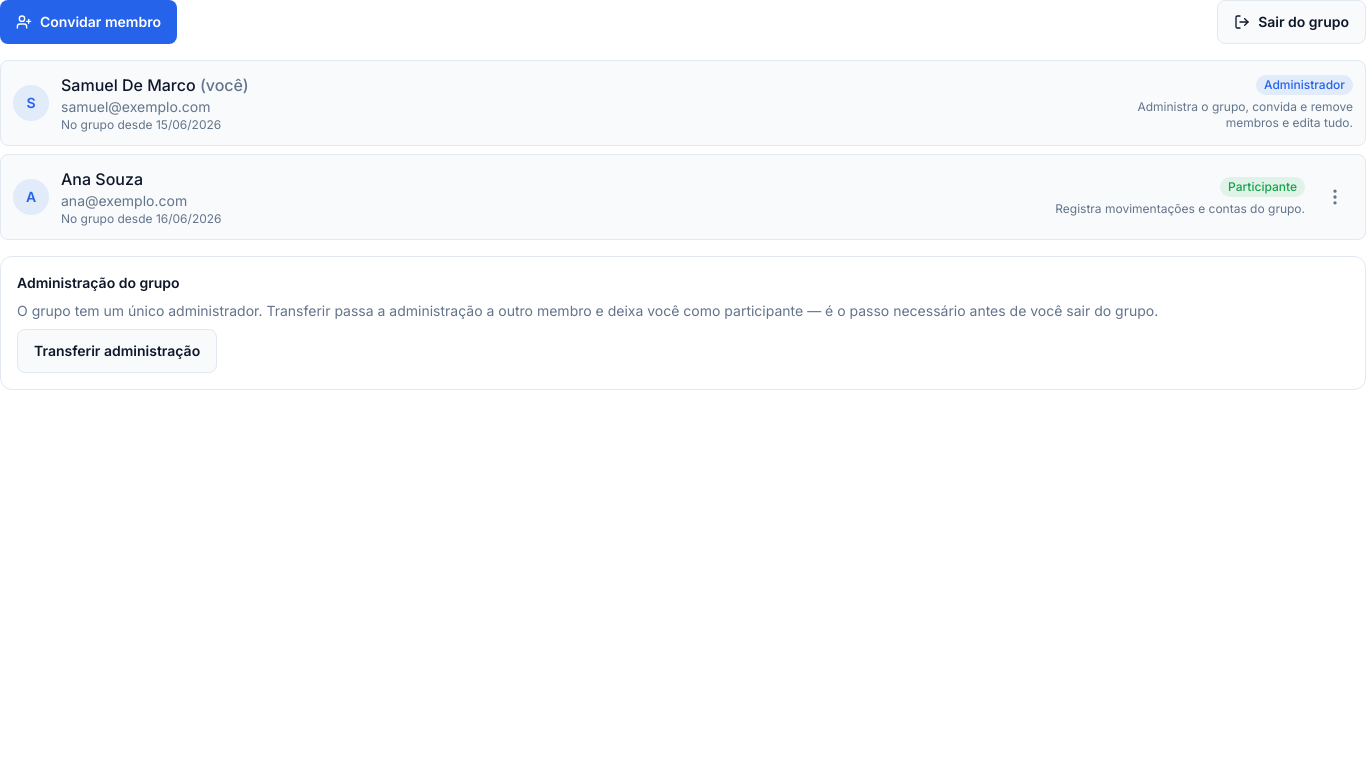
AbaMembrosGrupo — administrador › administrador que tenta sair recebe o caminho da transferencia (RN-29)
What coordinates should you click on to do the following:
click the button "Sair do grupo"
I would click on:
 (1292, 22)
Its box is [1217, 0, 1365, 44].
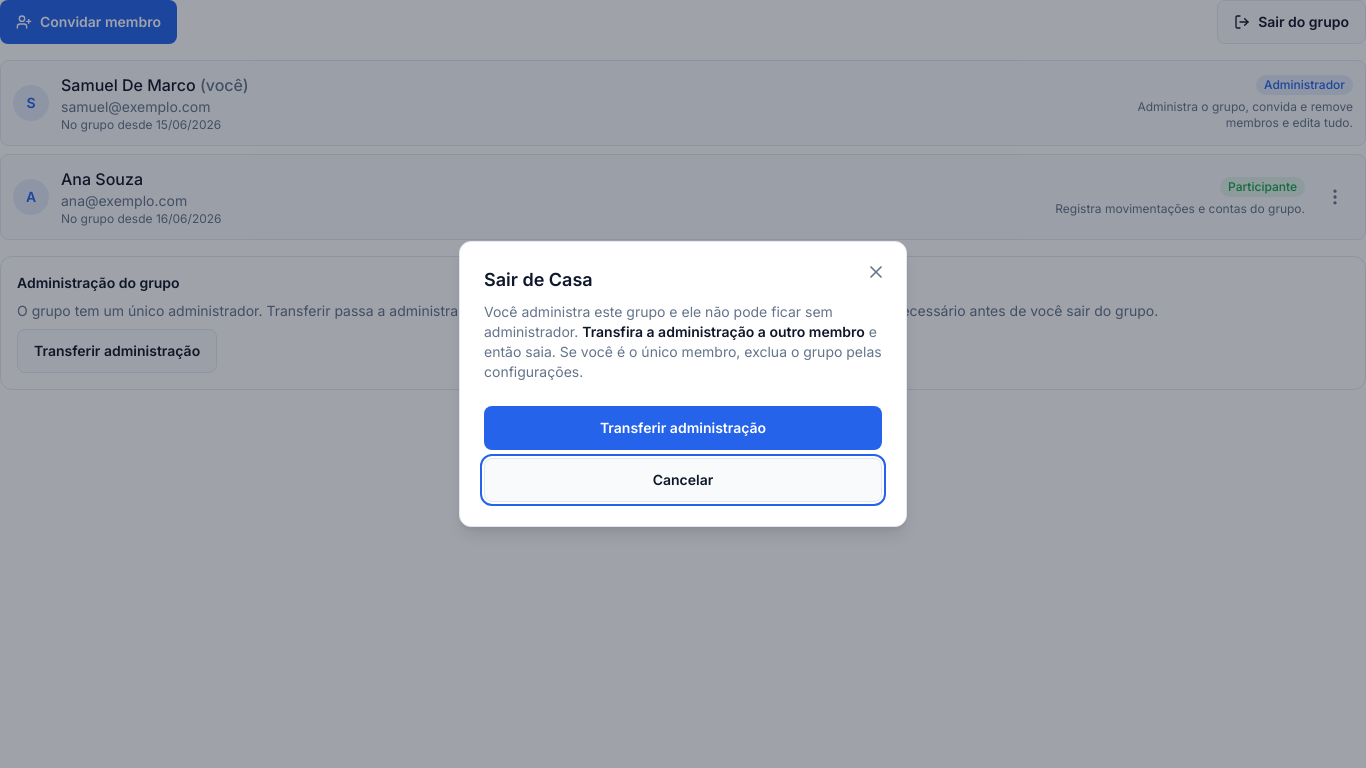
Check: the text "não pode ficar sem administrador" is shown, box [484, 303, 833, 340]
What coordinates should you click on to do the following:
click the button "Transferir administração"
I would click on:
 (683, 428)
Its box is [484, 406, 882, 450].
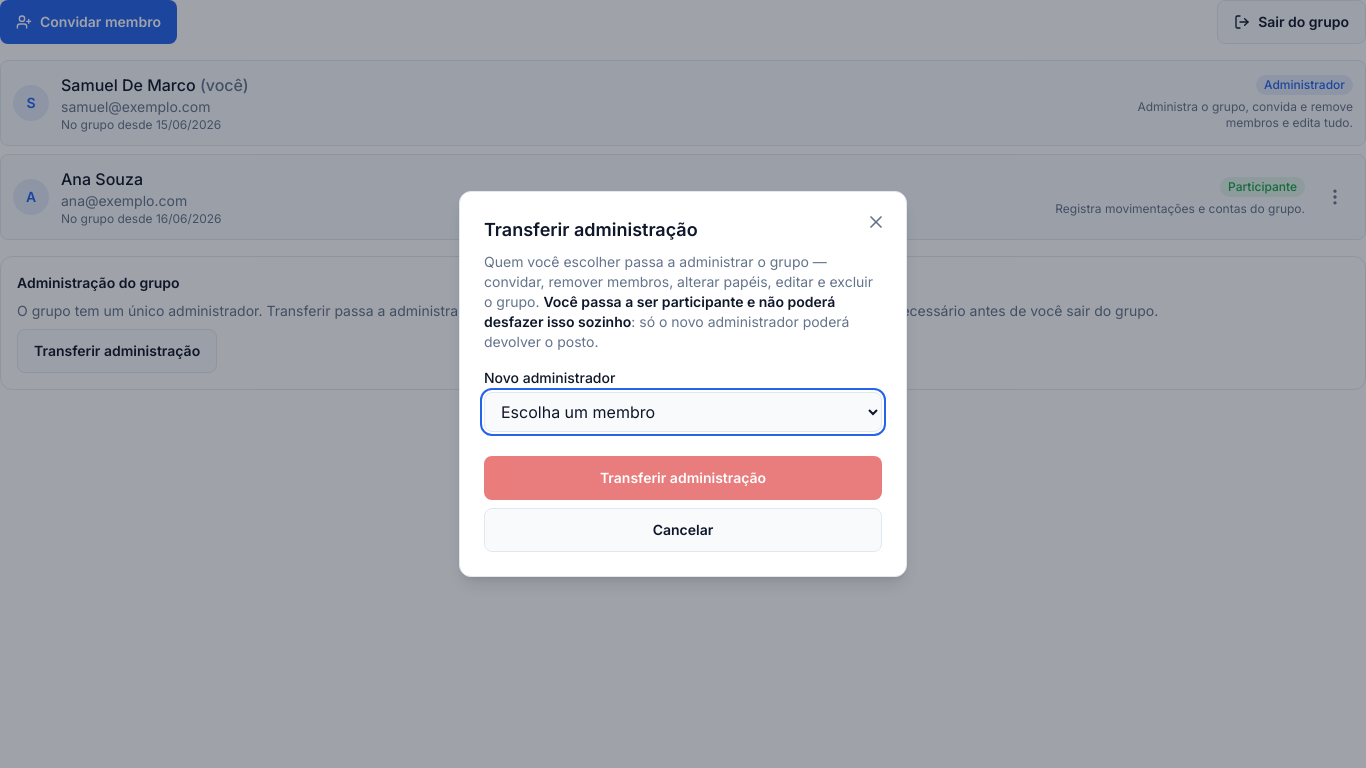
Check: the dropdown labelled "Novo administrador" is shown, box [484, 392, 882, 432]
